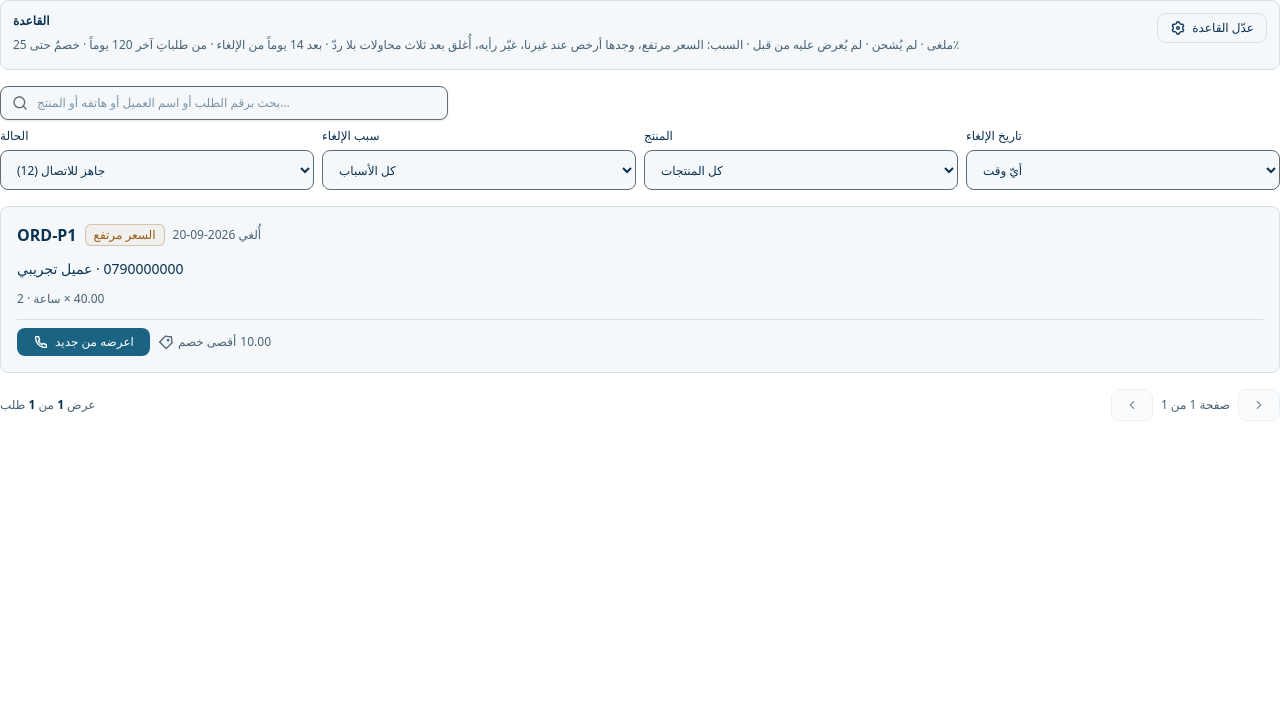
Scenario: saving a new rule › and a refusal by the route is shown in the form, which stays open, with no «saved» said
Expected: the dropdown labelled "الحالة" is shown, 0,150 -> 314,190
Click the button "عدّل القاعدة" at (1212, 28), box 1157,13 -> 1267,43
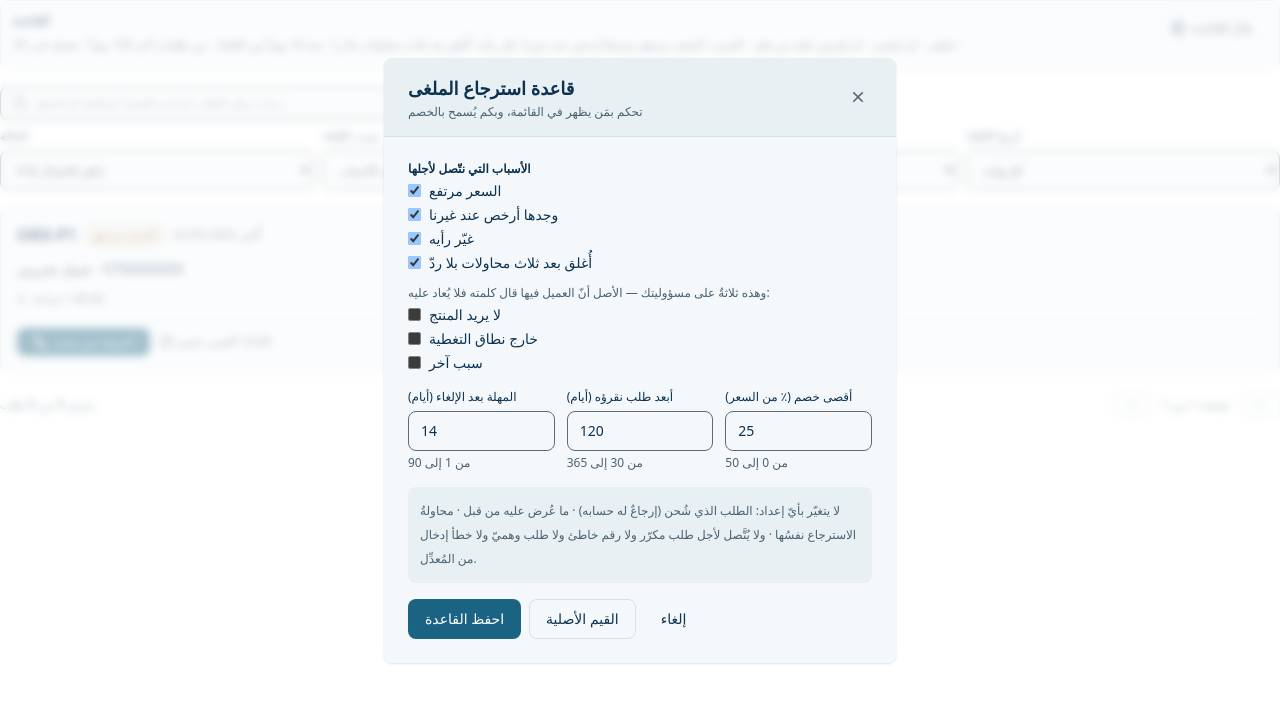
Replace the text in the field labelled "المهلة بعد الإلغاء (أيام)" with "10" at (481, 430), box 408,410 -> 555,450
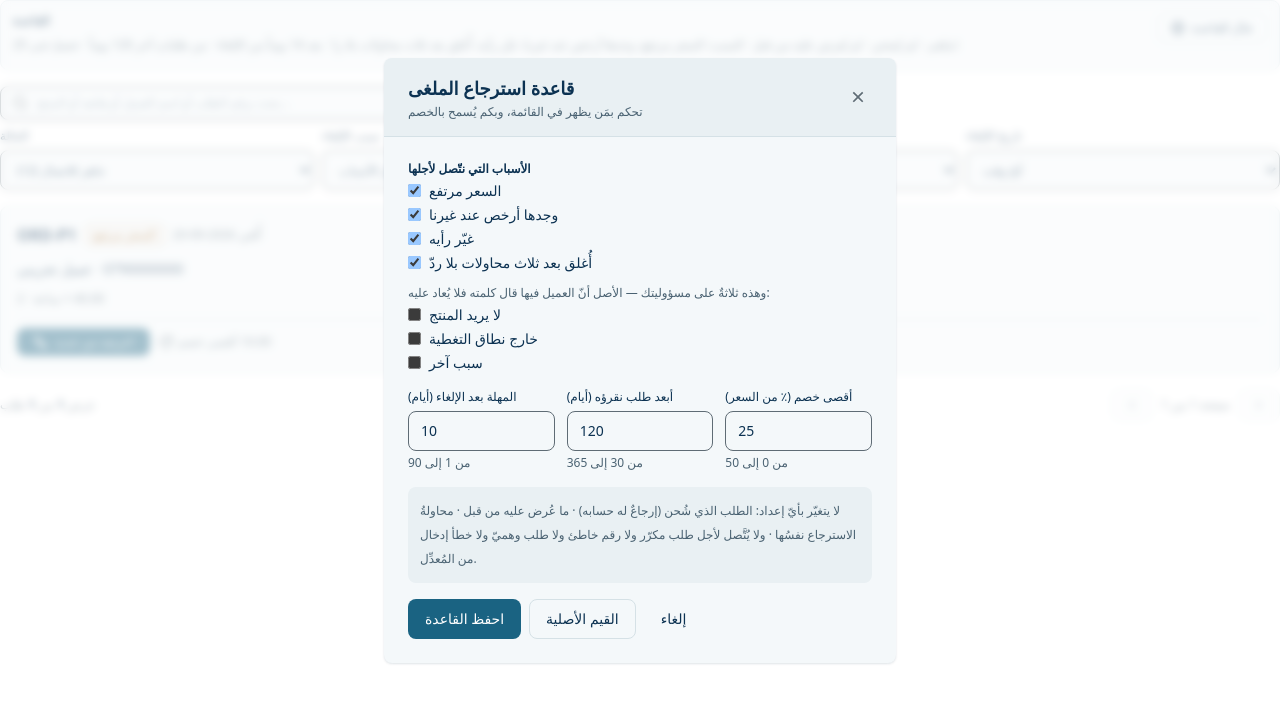
Click the button "احفظ القاعدة" at (465, 618), box 408,598 -> 521,638
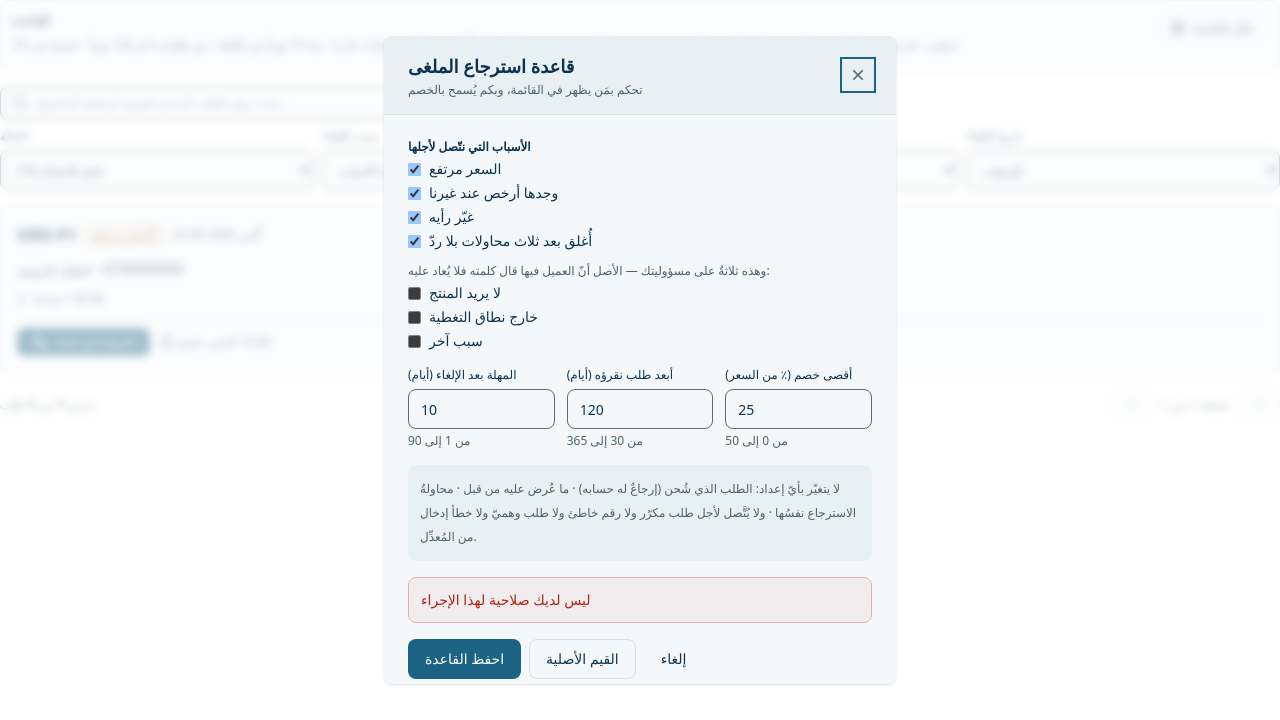
Expected: the heading "قاعدة استرجاع الملغى" is shown, 408,54 -> 574,78
Expected: the text "ليس لديك صلاحية لهذا الإجراء" is shown, 408,577 -> 872,623
